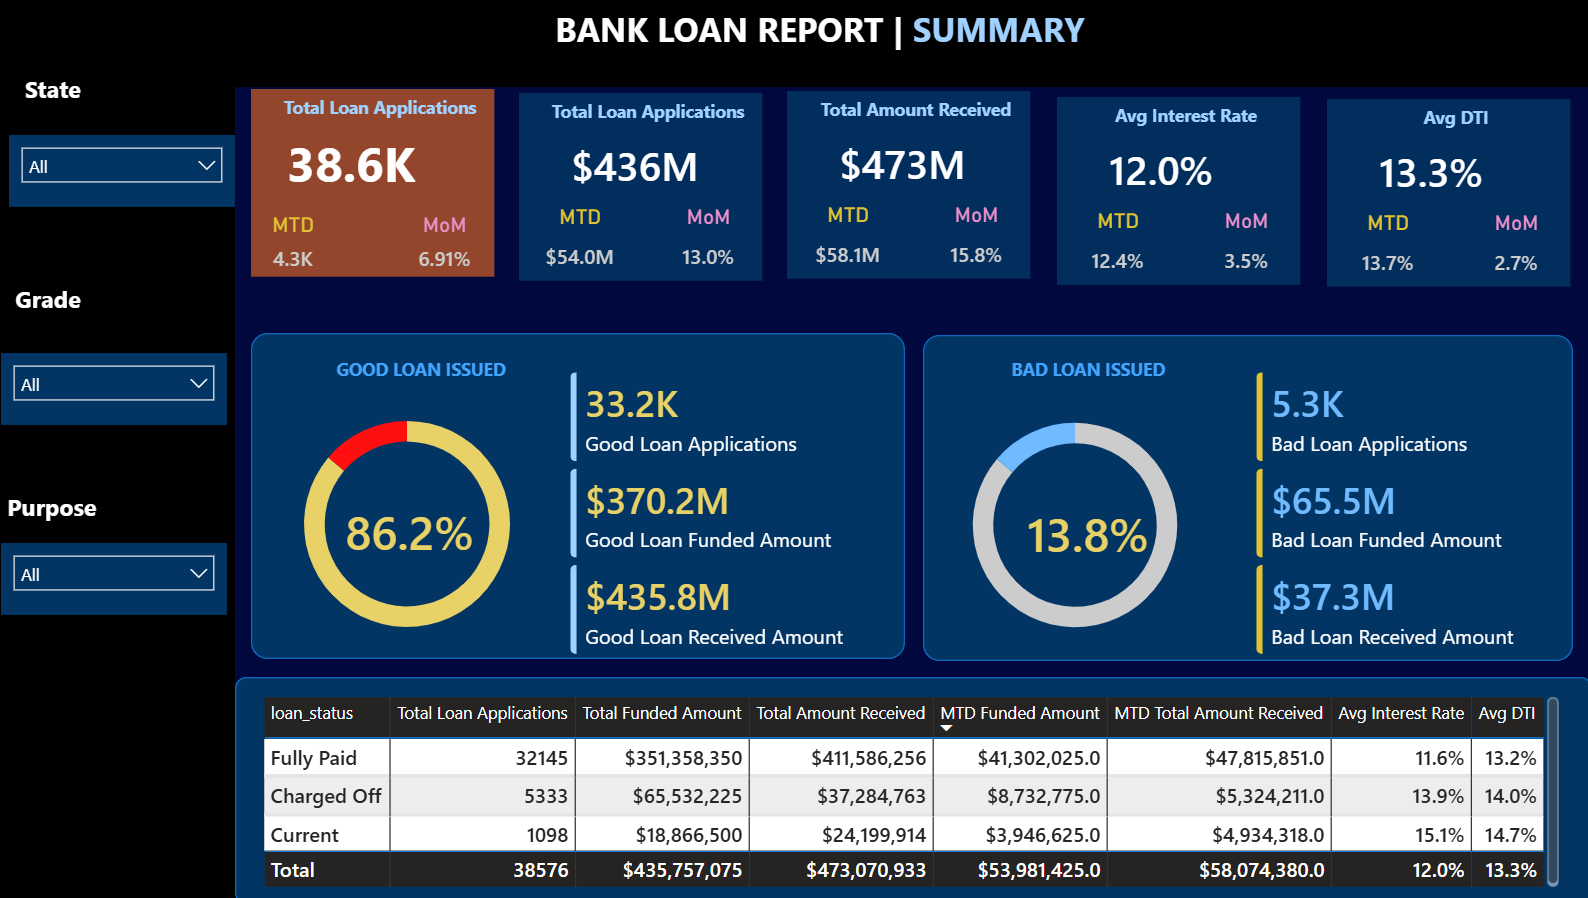

The page's visual inventory and layout, read from the dashboard file:
{"tool":"powerbi","page":{"name":"Page 1","canvas":[1280,720],"ordinal":0},"visuals":[{"type":"shape","box":[0,54.3,191.8,666.4],"z":0},{"type":"shape","box":[205.2,72,194.4,150],"z":0,"group":"g1"},{"type":"shape","box":[633.7,73.9,194.4,150],"z":0,"group":"g3"},{"type":"shape","box":[419.7,75.8,194.4,150],"z":0,"group":"g2"},{"type":"shape","box":[849.2,77.7,194.4,150],"z":0,"group":"g4"},{"type":"shape","box":[1064.7,79.6,194.4,150],"z":0,"group":"g5"},{"type":"cardVisual","fields":{"Data":["bank_loan_data.Total Loan Applications"]},"box":[205.2,93.4,166.9,73.5],"z":1000,"group":"g1"},{"type":"cardVisual","fields":{"Data":["bank_loan_data.Total Amount Received"]},"box":[645.7,96.2,160.8,67.4],"z":1000,"group":"g3"},{"type":"cardVisual","fields":{"Data":["bank_loan_data.Total Funded Amount"]},"box":[431.7,98.1,160.8,67.4],"z":1000,"group":"g2"},{"type":"cardVisual","fields":{"Data":["bank_loan_data.Avg Interest Rate"]},"box":[861.2,100,160.8,67.4],"z":1000,"group":"g4"},{"type":"cardVisual","fields":{"Data":["bank_loan_data.Avg DTi"]},"box":[1076.7,101.9,160.8,67.4],"z":1000,"group":"g5"},{"type":"slicer","fields":{"Values":["bank_loan_data.address_state"]},"box":[11.2,108.7,180.6,57.5],"z":1000},{"type":"shape","box":[0,0,1280,70.4],"z":2000},{"type":"textbox","box":[215.9,72,183.7,33.7],"z":2000,"group":"g1"},{"type":"textbox","box":[644.4,73.9,183.7,33.7],"z":2000,"group":"g3"},{"type":"textbox","box":[430.4,75.8,183.7,33.7],"z":2000,"group":"g2"},{"type":"textbox","box":[859.9,77.7,183.7,33.7],"z":2000,"group":"g4"},{"type":"textbox","box":[1075.4,79.6,183.7,33.7],"z":2000,"group":"g5"},{"type":"textbox","box":[442.5,0,448.6,47.5],"z":3000},{"type":"cardVisual","title":"MTD","fields":{"Data":["bank_loan_data.MTD Total Amount Received"]},"box":[633.1,163.6,98,59.7],"z":3000,"group":"g3"},{"type":"cardVisual","title":"MTD","fields":{"Data":["bank_loan_data.MTD Funded Amount"]},"box":[419.1,165.5,98,59.7],"z":3000,"group":"g2"},{"type":"cardVisual","title":"MTD","fields":{"Data":["bank_loan_data.MTD Avg Int Rate"]},"box":[848.6,167.4,98,59.7],"z":3000,"group":"g4"},{"type":"cardVisual","title":"MTD","fields":{"Data":["bank_loan_data.MTD Avg DTI"]},"box":[1064.1,169.3,98,59.7],"z":3000,"group":"g5"},{"type":"cardVisual","title":"MTD","fields":{"Data":["bank_loan_data.MTD Loan Applications"]},"box":[205.2,171.5,67.4,50.5],"z":3000,"group":"g1"},{"type":"group","id":"g1","title":"Group 1","box":[205.2,72,194.4,150],"z":4000},{"type":"cardVisual","title":"MoM","fields":{"Data":["bank_loan_data.Mom Total Amount Received"]},"box":[742.1,163.6,85.7,59.7],"z":4000,"group":"g3"},{"type":"cardVisual","title":"MoM","fields":{"Data":["bank_loan_data.Mom Total Funded Application"]},"box":[528.1,165.5,85.7,59.7],"z":4000,"group":"g2"},{"type":"cardVisual","title":"MoM","fields":{"Data":["bank_loan_data.Mom Avg Int Rate"]},"box":[957.6,167.4,85.7,59.7],"z":4000,"group":"g4"},{"type":"cardVisual","title":"MoM","fields":{"Data":["bank_loan_data.Mom Avg DTI"]},"box":[1173.1,169.3,85.7,59.7],"z":4000,"group":"g5"},{"type":"cardVisual","title":"MoM","fields":{"Data":["bank_loan_data.Mom Loan Application"]},"box":[320,171.5,79.6,50.5],"z":4000,"group":"g1"},{"type":"group","id":"g2","title":"Group 1","box":[419.1,75.8,194.4,150],"z":5000},{"type":"group","id":"g3","title":"Group 1","box":[633.1,73.9,196,150],"z":6000},{"type":"group","id":"g4","title":"Group 1","box":[848.6,77.7,196,150],"z":7000},{"type":"group","id":"g5","title":"Group 1","box":[1064.1,79.6,196,150],"z":8000},{"type":"shape","box":[204.5,266.9,522.5,260.5],"z":9000},{"type":"shape","box":[741.5,268.5,519.4,260.5],"z":10000},{"type":"donutChart","fields":{"Category":["bank_loan_data.Good vs Bad Loan"],"Y":["bank_loan_data.Total Loan Applications"]},"box":[204.5,311.6,249.3,215.7],"z":11000},{"type":"cardVisual","fields":{"Data":["bank_loan_data.Good Loan %"]},"box":[250.9,388.3,169.4,71.9],"z":12000},{"type":"cardVisual","fields":{"Data":["bank_loan_data.Good Loan Applications","bank_loan_data.Good Loan Funded Amount","bank_loan_data.Good Loan Received Amount"]},"box":[442.6,281.2,289.2,260.5],"z":13000},{"type":"textbox","box":[250.9,281.2,179,44.7],"z":14000},{"type":"donutChart","fields":{"Category":["bank_loan_data.Good vs Bad Loan"],"Y":["bank_loan_data.Total Loan Applications"]},"box":[752.7,313.2,220.5,214.1],"z":15000},{"type":"cardVisual","fields":{"Data":["bank_loan_data.Bad Loan %"]},"box":[795.8,391.5,161.4,68.7],"z":16000},{"type":"cardVisual","fields":{"Data":["bank_loan_data.Bad Loan Applications","bank_loan_data.Bad Loan Funded Amount","bank_loan_data.Bad Loan Received Amount"]},"box":[990.8,281.4,289.2,259.9],"z":17000},{"type":"shape","box":[191.5,541.3,1084.6,181.7],"z":18000},{"type":"tableEx","fields":{"Values":["bank_loan_data.loan_status","bank_loan_data.Total Loan Applications","bank_loan_data.Total Funded Amount","bank_loan_data.Total Amount Received","bank_loan_data.MTD Funded Amount","bank_loan_data.MTD Total Amount Received","bank_loan_data.Avg Interest Rate","bank_loan_data.Avg DTi"]},"box":[209.3,552.9,1045.1,161.4],"z":19000},{"type":"slicer","fields":{"Values":["bank_loan_data.grade"]},"box":[4.8,282.8,180.6,57.5],"z":20000},{"type":"slicer","fields":{"Values":["bank_loan_data.purpose"]},"box":[4.8,434.7,180.6,57.5],"z":21000},{"type":"textbox","box":[11.2,54.3,70.3,35.2],"z":22000},{"type":"textbox","box":[11.2,222.1,140.6,36.8],"z":23000},{"type":"textbox","box":[807,281.2,169.4,33.6],"z":24000},{"type":"textbox","box":[4.8,388.3,99.1,40],"z":25000}]}

Visuals, with their boxes in screenshot pixels (x1, y1, x2, y2), scaled from the page's 1280x720 canvas onto the 1588x898 screenshot:
shape: locate(0, 68, 238, 897)
shape: locate(255, 90, 496, 277)
shape: locate(786, 92, 1027, 279)
shape: locate(521, 95, 762, 282)
shape: locate(1054, 97, 1295, 284)
shape: locate(1321, 99, 1562, 286)
cardVisual - bank_loan_data.Total Loan Applications: locate(255, 116, 462, 208)
cardVisual - bank_loan_data.Total Amount Received: locate(801, 120, 1001, 204)
cardVisual - bank_loan_data.Total Funded Amount: locate(536, 122, 735, 206)
cardVisual - bank_loan_data.Avg Interest Rate: locate(1068, 125, 1268, 209)
cardVisual - bank_loan_data.Avg DTi: locate(1336, 127, 1535, 211)
slicer - bank_loan_data.address_state: locate(14, 136, 238, 207)
shape: locate(0, 0, 1587, 88)
textbox: locate(268, 90, 496, 132)
textbox: locate(799, 92, 1027, 134)
textbox: locate(534, 95, 762, 137)
textbox: locate(1067, 97, 1295, 139)
textbox: locate(1334, 99, 1562, 141)
textbox: locate(549, 0, 1106, 59)
"MTD" cardVisual: locate(785, 204, 907, 279)
"MTD" cardVisual: locate(520, 206, 642, 281)
"MTD" cardVisual: locate(1053, 209, 1174, 283)
"MTD" cardVisual: locate(1320, 211, 1442, 286)
"MTD" cardVisual: locate(255, 214, 338, 277)
"Group 1" group: locate(255, 90, 496, 277)
"MoM" cardVisual: locate(921, 204, 1027, 279)
"MoM" cardVisual: locate(655, 206, 761, 281)
"MoM" cardVisual: locate(1188, 209, 1294, 283)
"MoM" cardVisual: locate(1455, 211, 1562, 286)
"MoM" cardVisual: locate(397, 214, 496, 277)
"Group 1" group: locate(520, 95, 761, 282)
"Group 1" group: locate(785, 92, 1029, 279)
"Group 1" group: locate(1053, 97, 1296, 284)
"Group 1" group: locate(1320, 99, 1563, 286)
shape: locate(254, 333, 902, 658)
shape: locate(920, 335, 1564, 660)
donutChart - bank_loan_data.Good vs Bad Loan x bank_loan_data.Total Loan Applications: locate(254, 389, 563, 658)
cardVisual - bank_loan_data.Good Loan %: locate(311, 484, 521, 574)
cardVisual - bank_loan_data.Good Loan Applications x bank_loan_data.Good Loan Funded Amount: locate(549, 351, 908, 676)
textbox: locate(311, 351, 533, 406)
donutChart - bank_loan_data.Good vs Bad Loan x bank_loan_data.Total Loan Applications: locate(934, 391, 1207, 658)
cardVisual - bank_loan_data.Bad Loan %: locate(987, 488, 1188, 574)
cardVisual - bank_loan_data.Bad Loan Applications x bank_loan_data.Bad Loan Funded Amount: locate(1229, 351, 1587, 675)
shape: locate(238, 675, 1583, 897)
tableEx - bank_loan_data.loan_status x bank_loan_data.Total Loan Applications: locate(260, 690, 1556, 891)
slicer - bank_loan_data.grade: locate(6, 353, 230, 424)
slicer - bank_loan_data.purpose: locate(6, 542, 230, 614)
textbox: locate(14, 68, 101, 112)
textbox: locate(14, 277, 188, 323)
textbox: locate(1001, 351, 1211, 393)
textbox: locate(6, 484, 129, 534)
